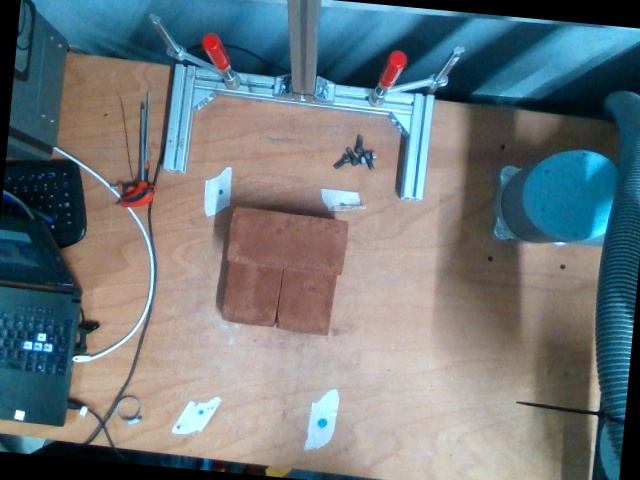brick: (227, 208, 346, 273)
